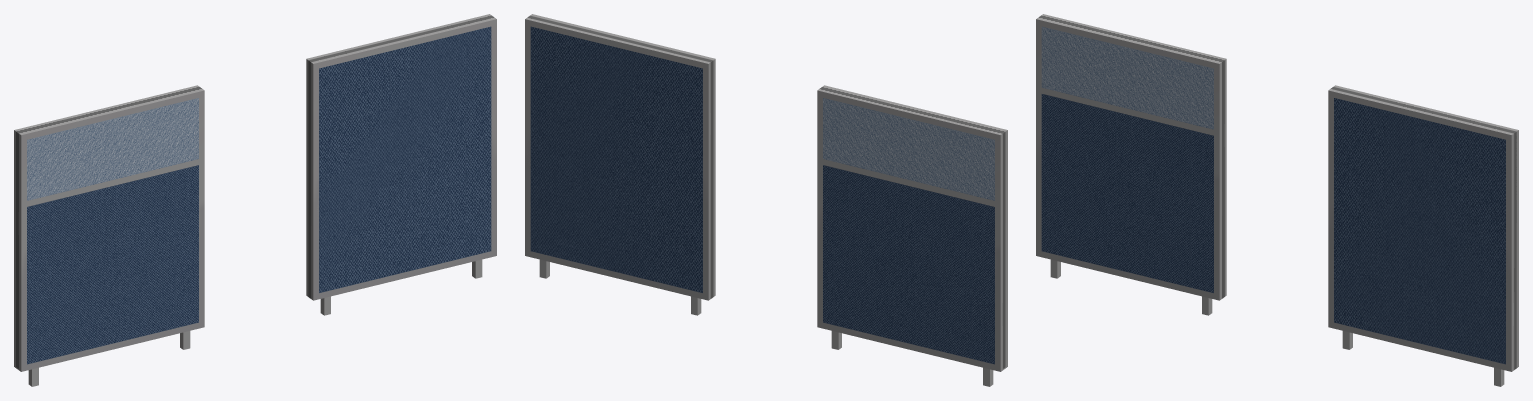
The model's file is partition.FBX.
The picture shows the model from 3 angles, left to right: view 1: azimuth 30°, elevation 25°; view 2: azimuth 150°, elevation 25°; view 3: azimuth 330°, elevation 25°; orthographic projection.
Visible parts, largest first — view 1: Object007, Object011; view 2: Object007, Object011; view 3: Object011, Object007.
Part boxes in pixels (<box>): Object007: <box>14,85,204,386</box>; Object011: <box>306,14,496,315</box>; Object007: <box>817,85,1007,386</box>; Object011: <box>525,14,715,315</box>; Object011: <box>1328,85,1518,386</box>; Object007: <box>1036,14,1226,315</box>.
Size of the model in its own units: 389 by 200 by 10.
